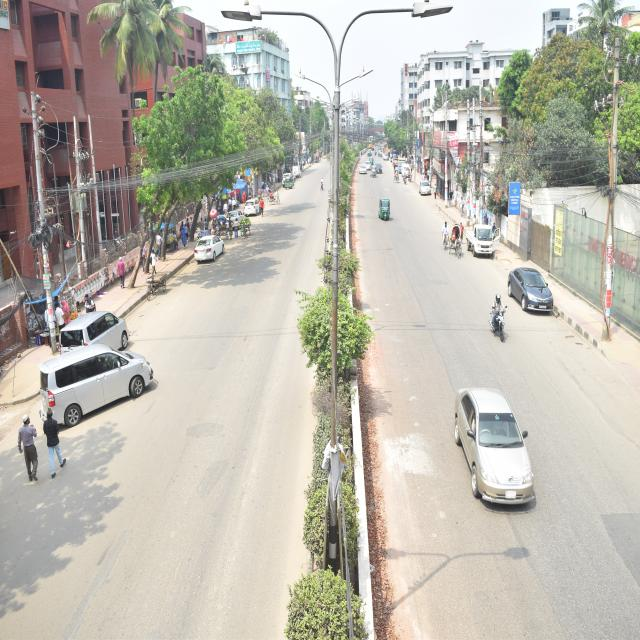car: (454, 383, 540, 509), (36, 348, 162, 431), (56, 303, 135, 351), (506, 264, 557, 314), (192, 233, 229, 266), (416, 174, 433, 201), (243, 196, 264, 217)
motorbike: (484, 299, 508, 346)
pickup-van: (465, 217, 497, 260)
